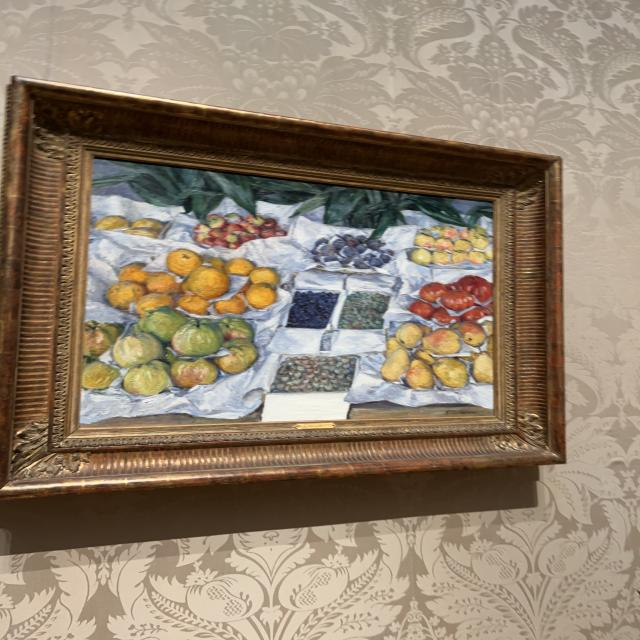fruits: (83, 160, 491, 427)
